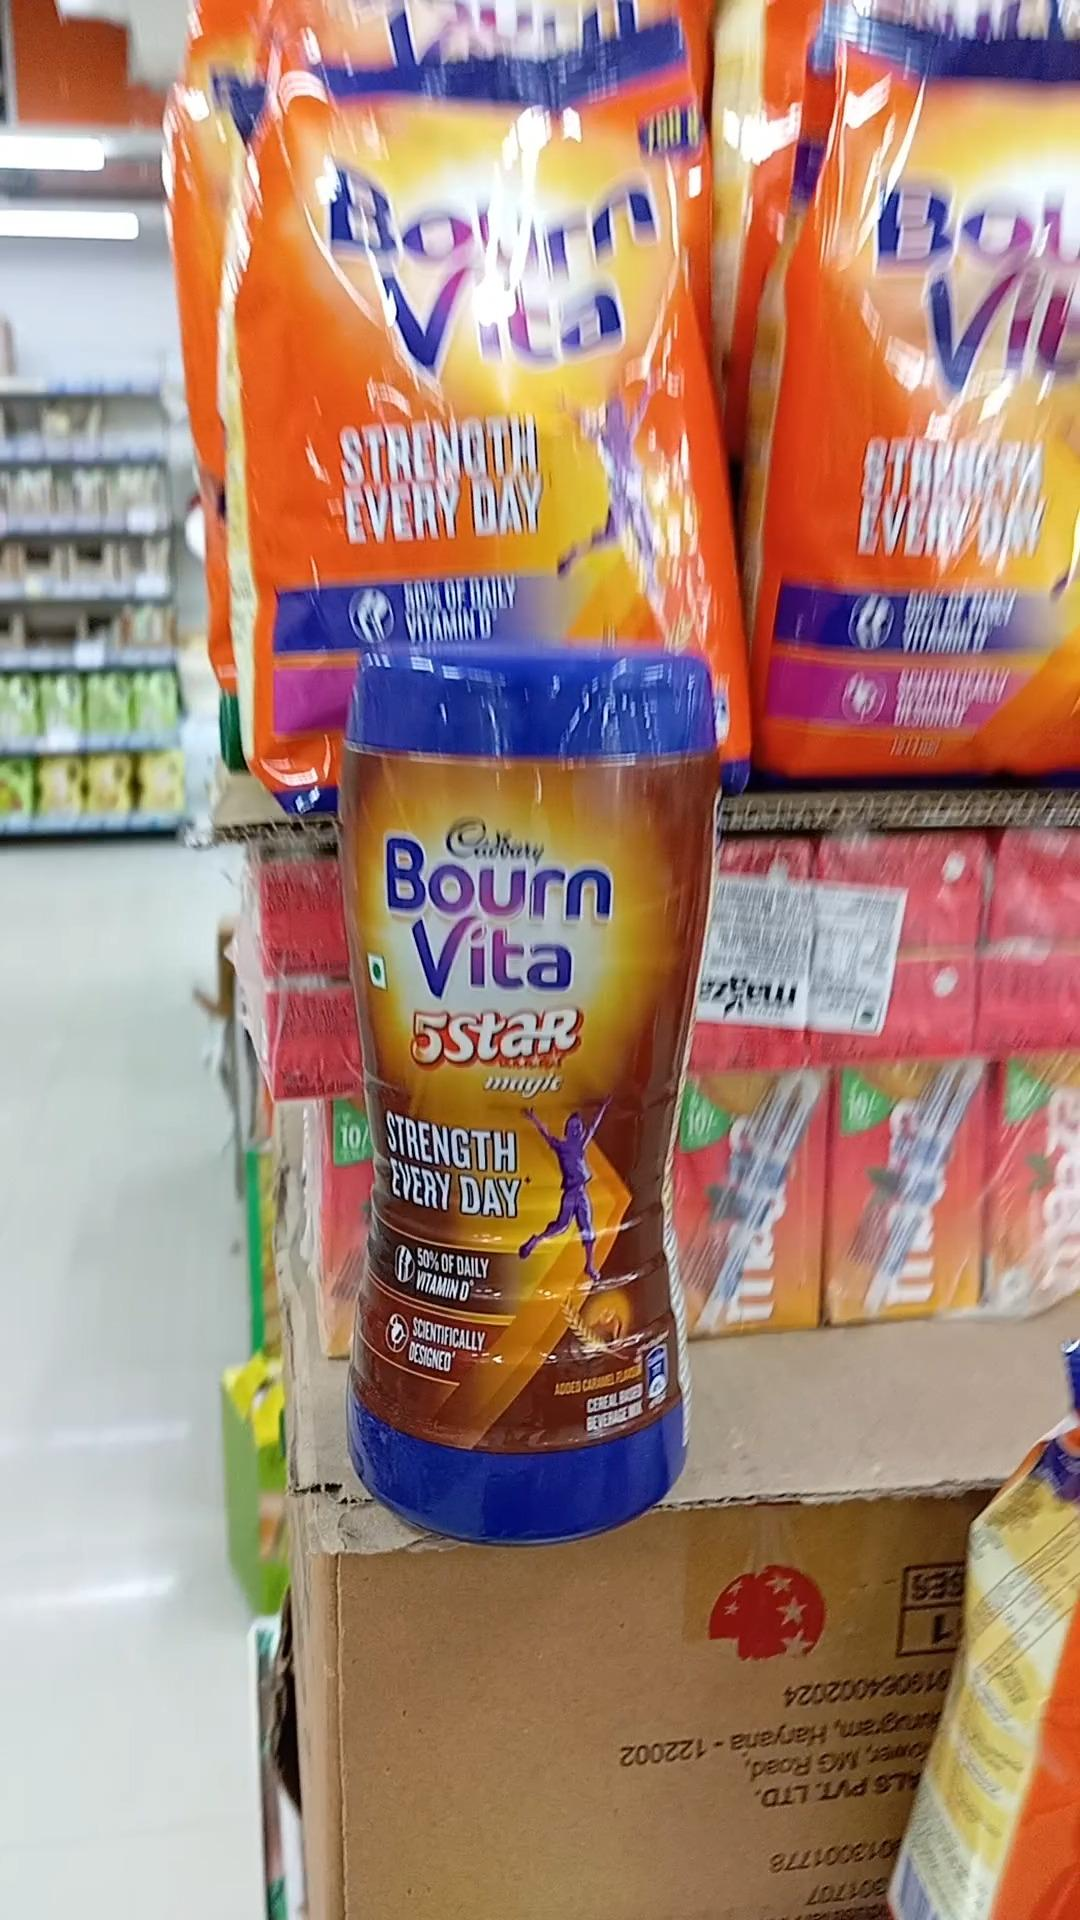BOURN_VITA_FIVE_STAR_MAGIC_500_G_JAR: (336, 640, 732, 1544)
